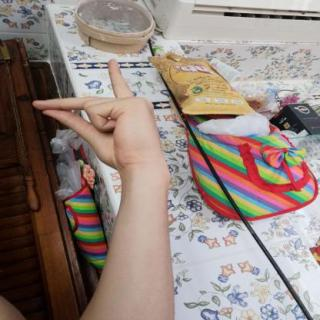TAA: (20, 51, 173, 176)
